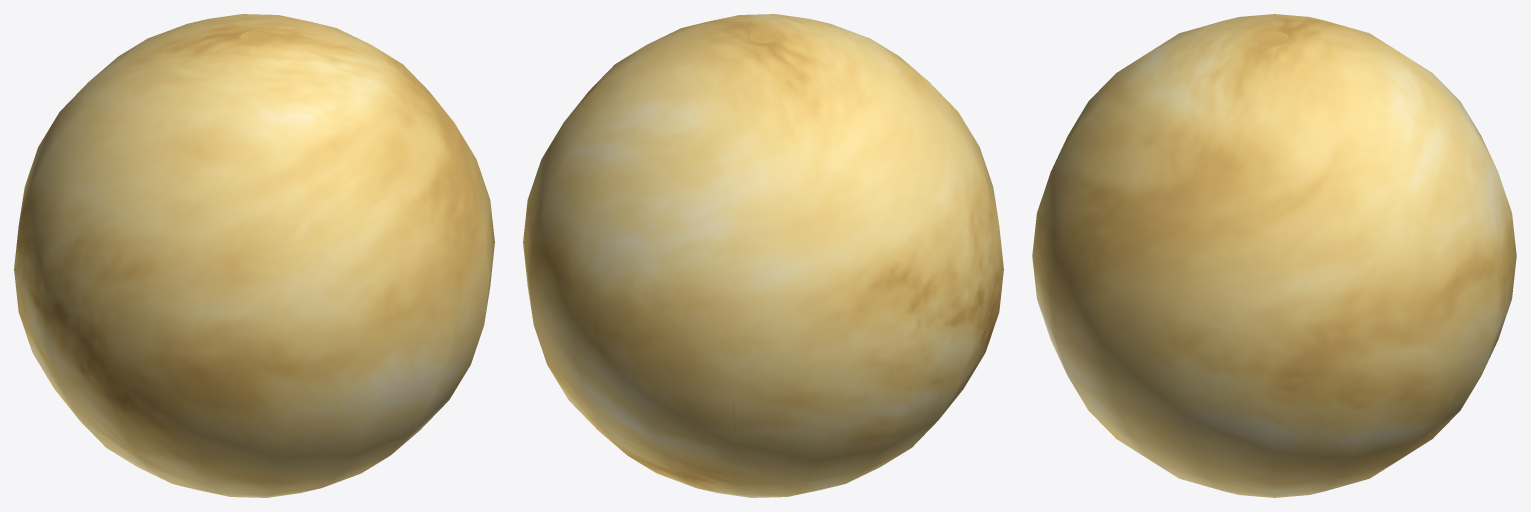
Rendered from Venus.fbx.
The picture shows the model from 3 angles, left to right: view 1: azimuth 30°, elevation 25°; view 2: azimuth 150°, elevation 25°; view 3: azimuth 270°, elevation 25°; orthographic projection.
Parts seen in each view (by area): view 1: Venus; view 2: Venus; view 3: Venus.
Boxes of the visible parts, x1,y1,x2,y2 form: Venus: [14, 14, 494, 497]; Venus: [523, 14, 1003, 497]; Venus: [1032, 14, 1516, 497].
Bounding box in the file's own units: 7.58 × 7.55 × 7.58.
